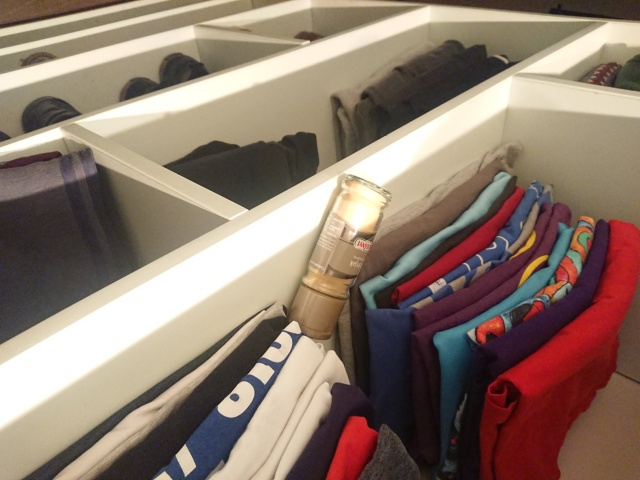Kotanyi Garlic Granules 70g: (284, 171, 394, 344)
